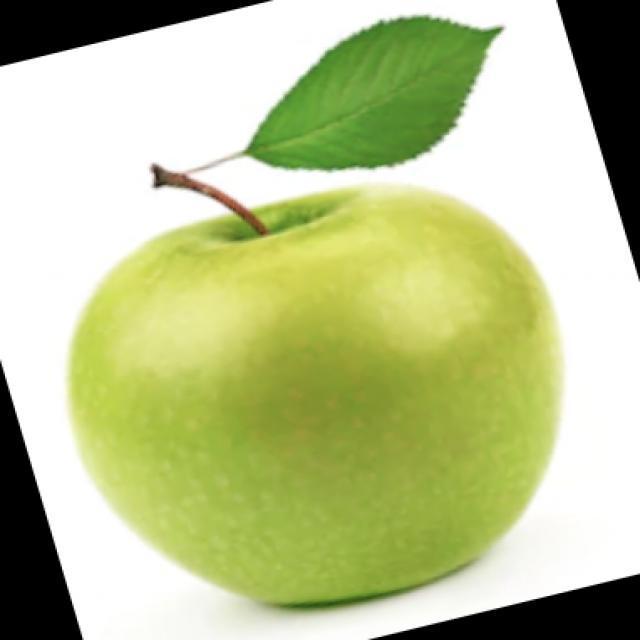Fresh Apple: (76, 175, 556, 622)
